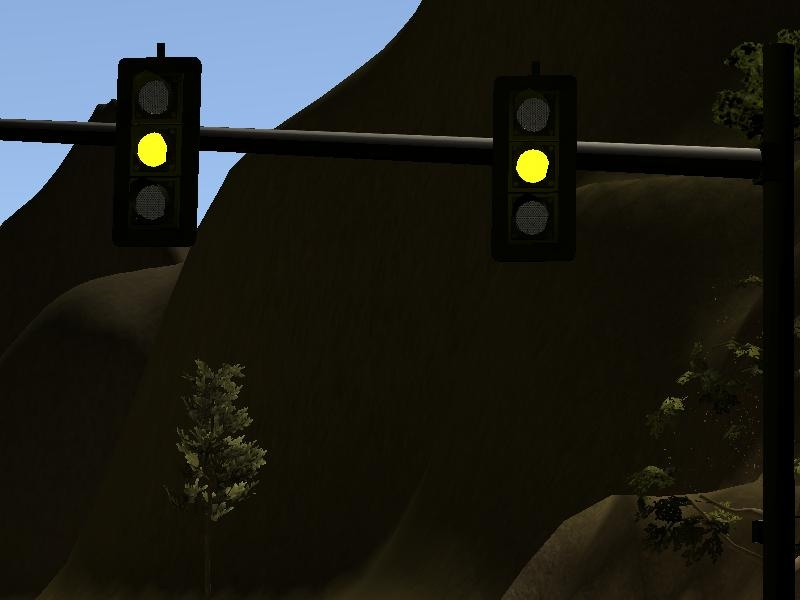yellow: (101, 36, 210, 257), (481, 59, 590, 271)
